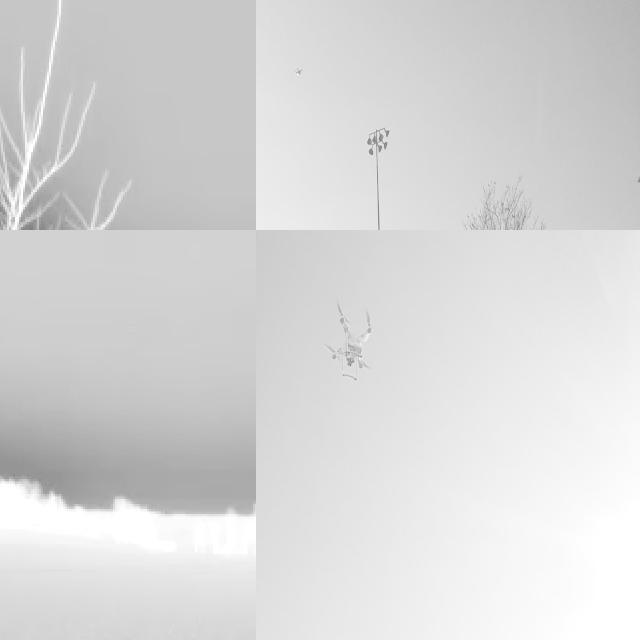drone: (326, 293, 377, 388), (290, 63, 306, 87)
